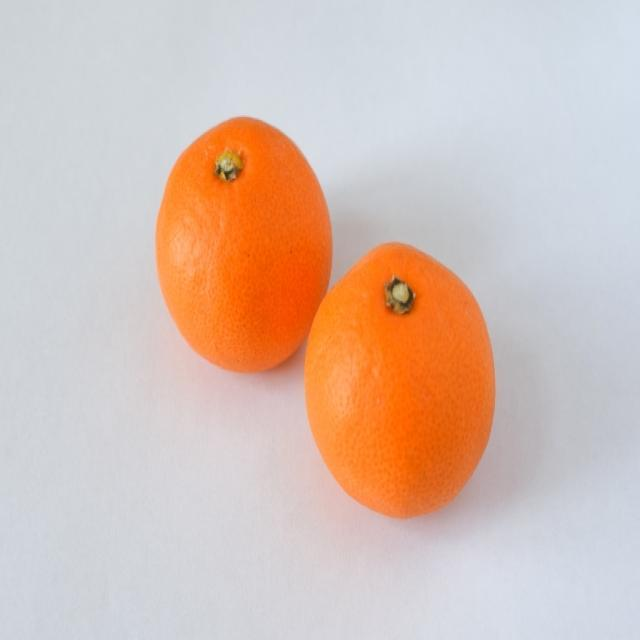Orange: (296, 236, 498, 520), (157, 110, 330, 380)
